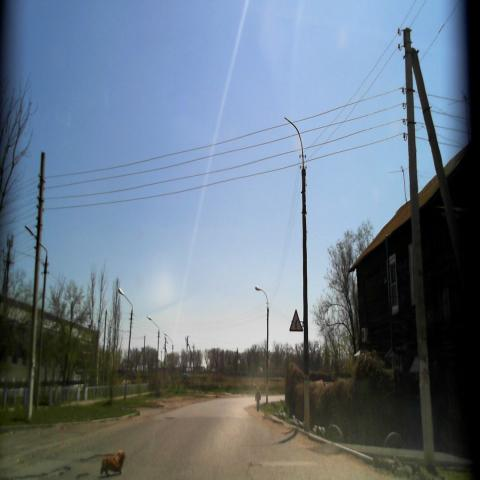1_11: (286, 308, 304, 333)
